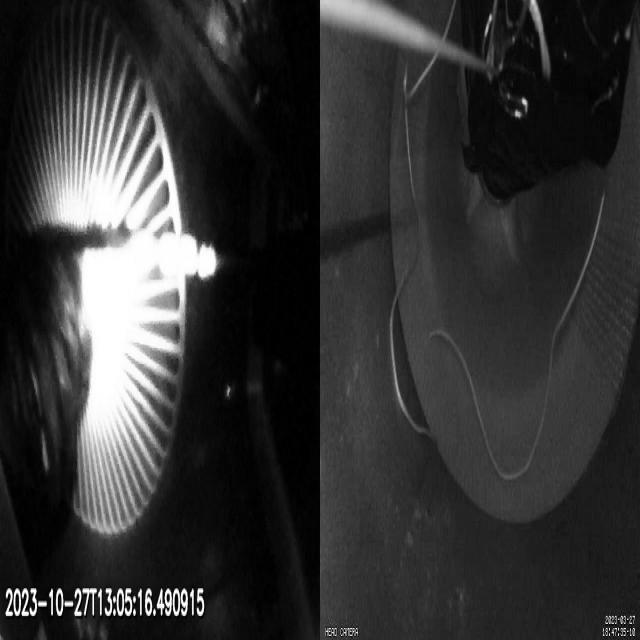white-dots: (161, 234, 217, 279)
